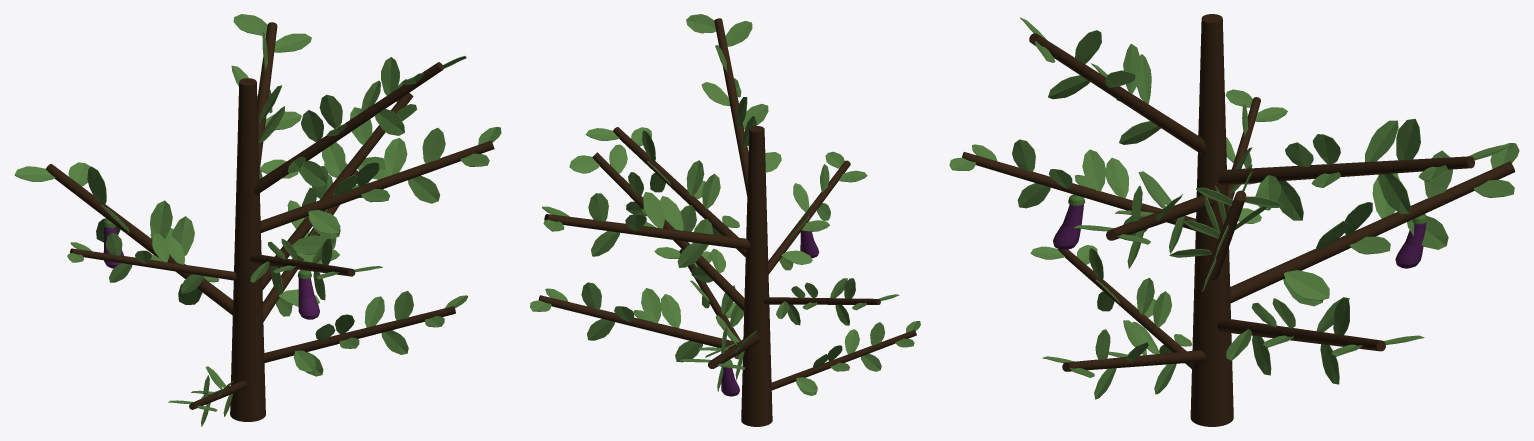
File: EggPlant_Bush.fbx
The picture shows the model from 3 angles, left to right: view 1: azimuth 30°, elevation 25°; view 2: azimuth 150°, elevation 25°; view 3: azimuth 270°, elevation 25°; orthographic projection. The views are drawn at different scales.
Parts seen in each view (by area): view 1: Body; view 2: Body; view 3: Body.
Boxes of the visible parts, box(x1,y1,x2,y2) form: Body: box(14, 14, 501, 426); Body: box(530, 14, 920, 426); Body: box(949, 14, 1519, 426).
Size of the model in its own units: 154 by 141 by 161.
